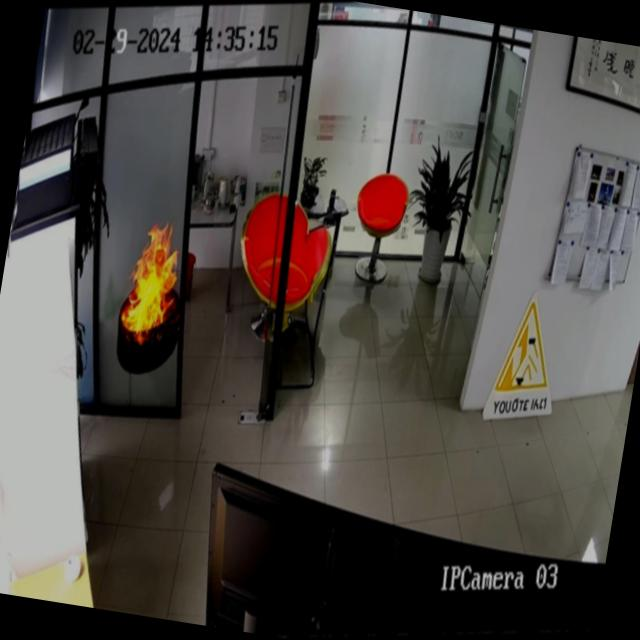fire: (90, 168, 220, 385)
